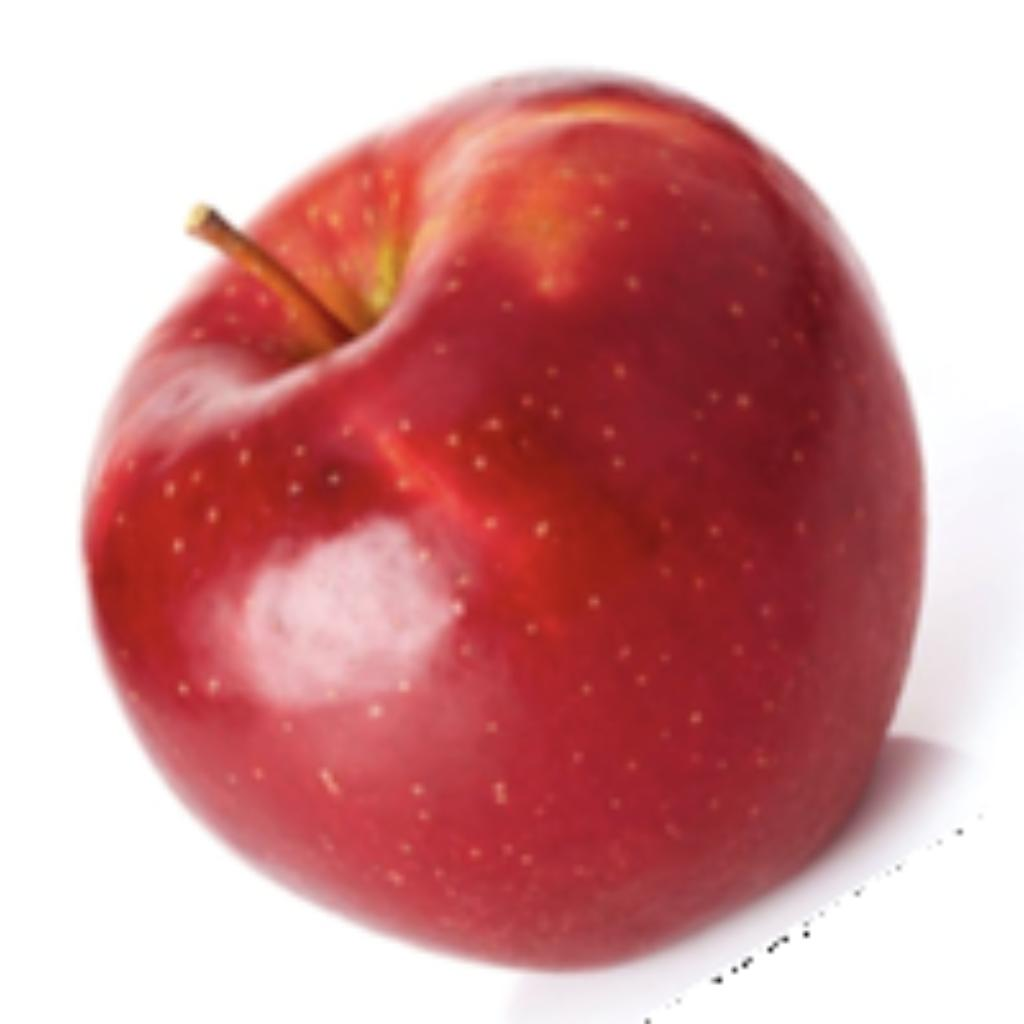apple: (72, 56, 1014, 1019)
